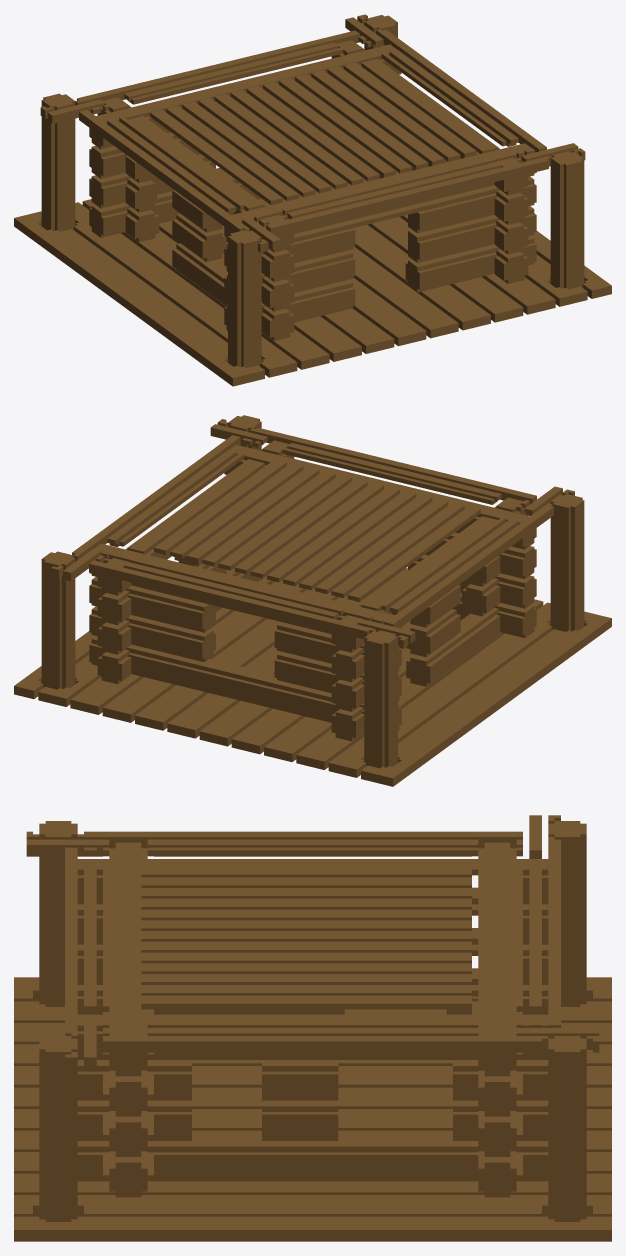
File: cabin0-3.obj
The picture shows the model from 3 angles, top to bottom: view 1: azimuth 30°, elevation 25°; view 2: azimuth 150°, elevation 25°; view 3: azimuth 270°, elevation 25°; orthographic projection. The views are drawn at different scales.
Bounding box in the file's own units: 9.4 × 3.1 × 9.4.
Materials: 1 (1 with a texture image).
